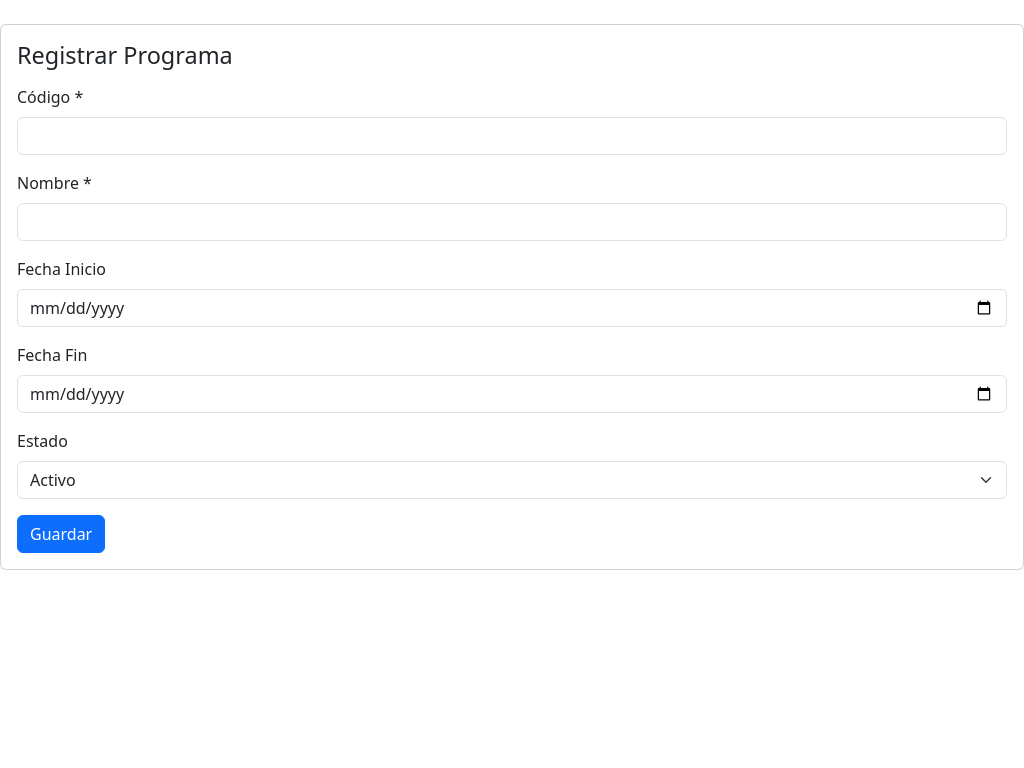
Test: ProgramForm › submits the form data and shows the success message
Note: Fill in inputs
Type "PF001" into the field labelled "Código *" at (512, 136), box x1=17 y1=117 x2=1007 y2=155
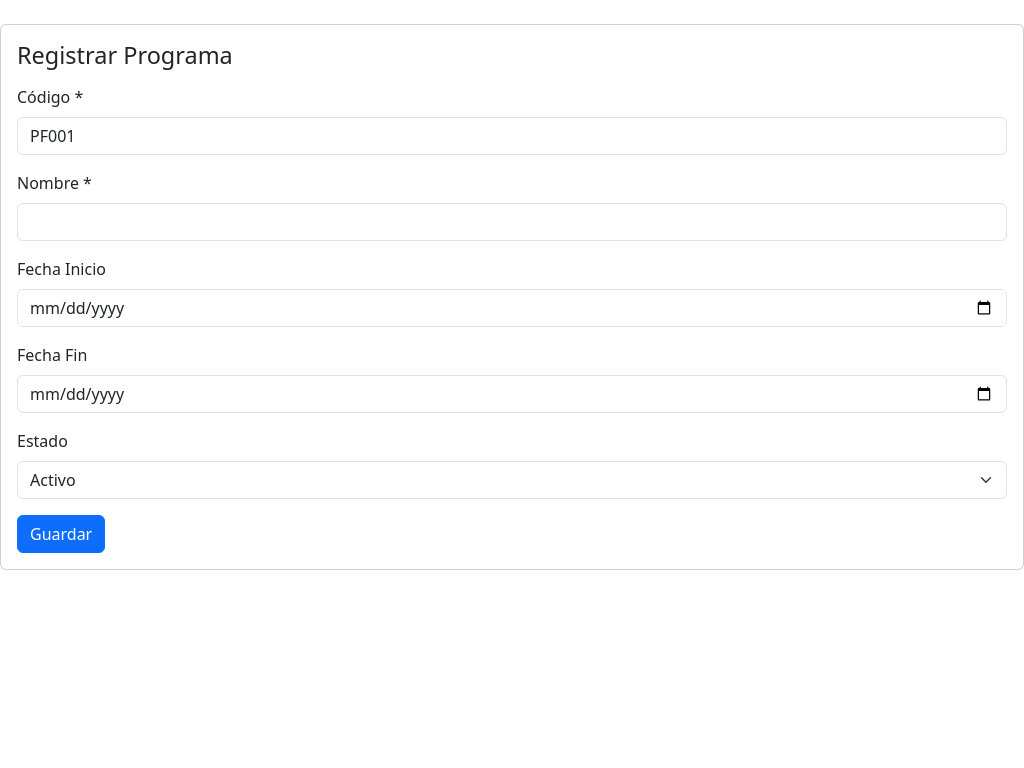
Type "Programa A" into the field labelled "Nombre *" at (512, 222), box x1=17 y1=203 x2=1007 y2=241
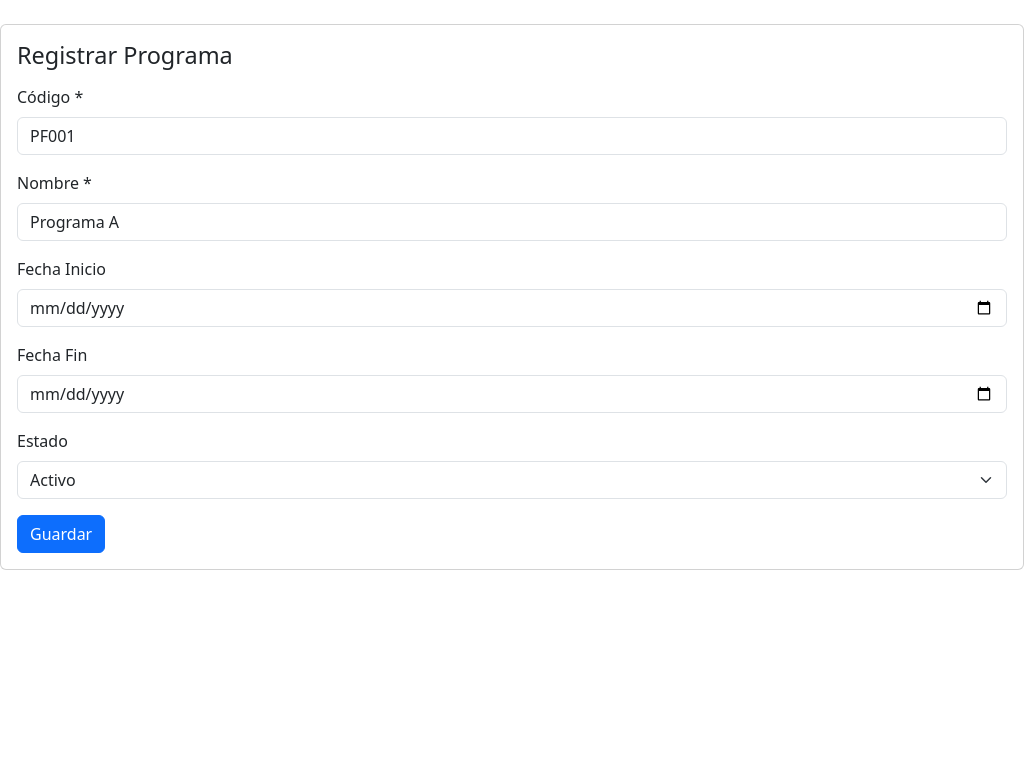
Note: Submit form
Click the button "Guardar" at (61, 534), box x1=17 y1=515 x2=105 y2=553
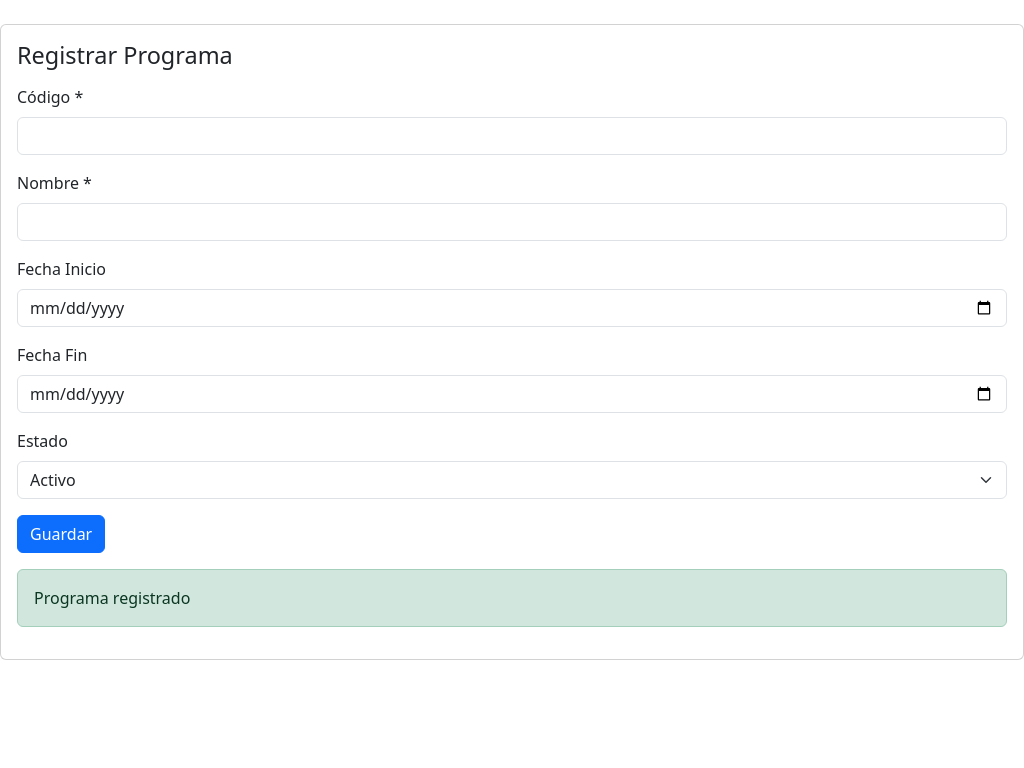
Result: the text "Programa registrado" is shown at x1=17 y1=569 x2=1007 y2=627
